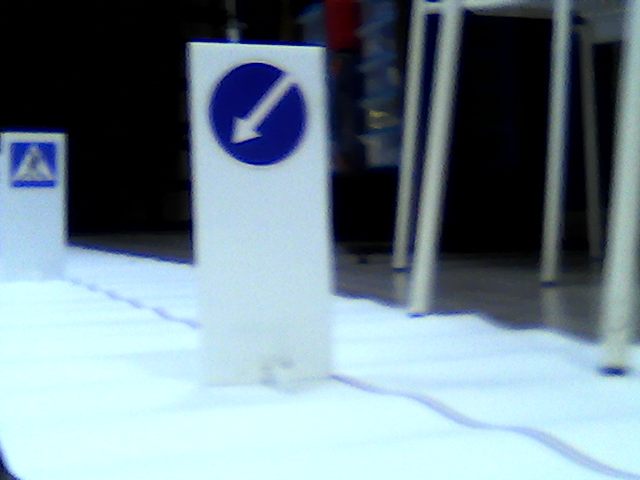pesh: (10, 141, 59, 190)
prep: (204, 58, 313, 170)
